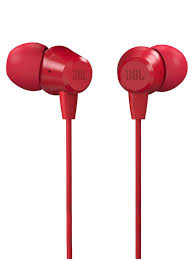earphone: (3, 38, 189, 174)
